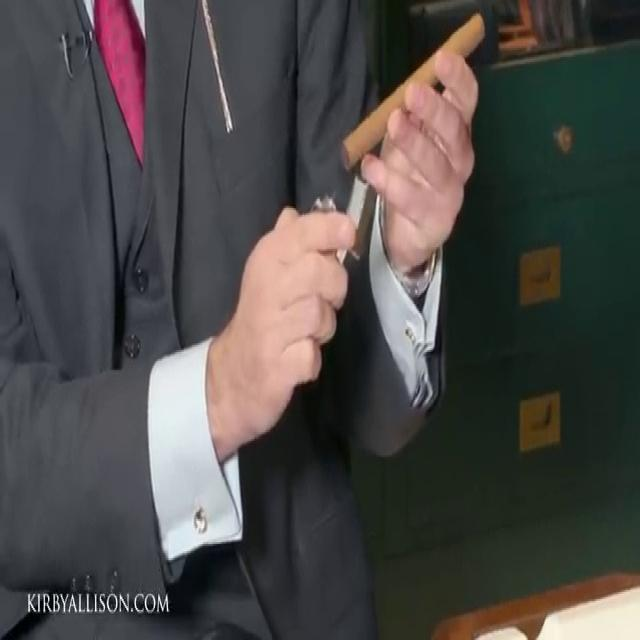Smooking: (332, 11, 517, 163)
